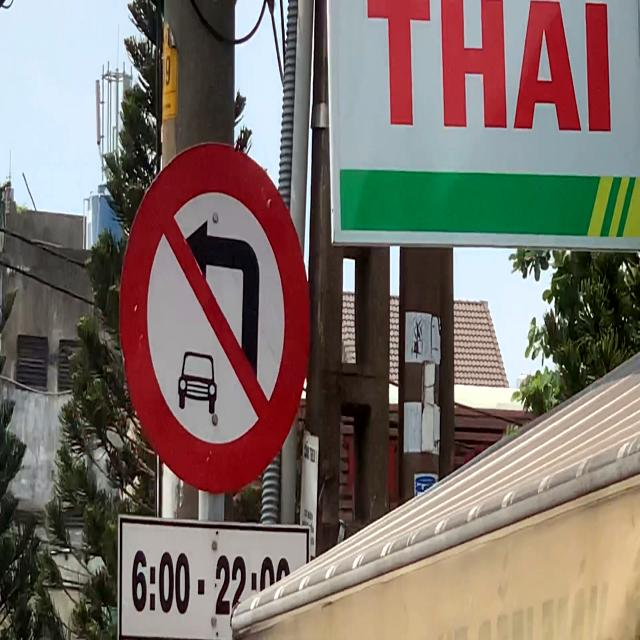P.103c: (122, 139, 310, 493)
